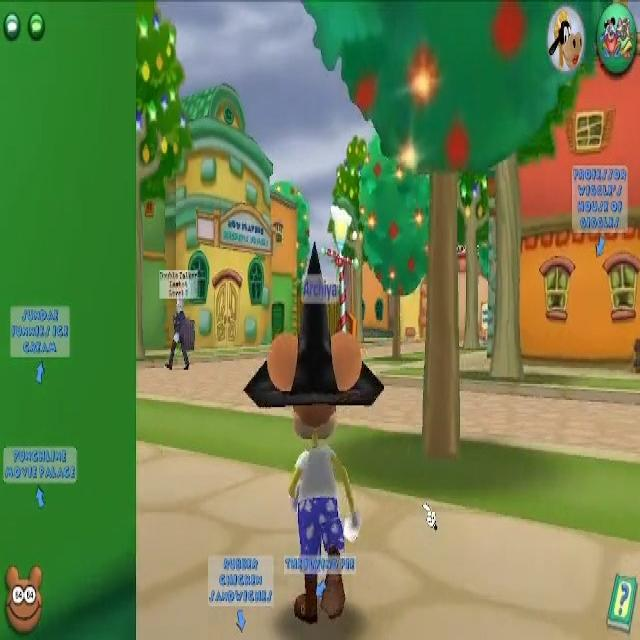doubletalker: (159, 270, 199, 370)
